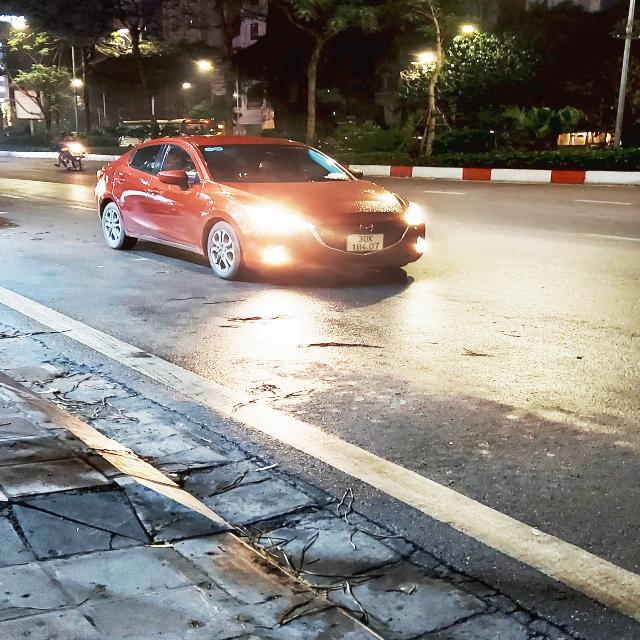license_plate: (347, 235, 385, 253)
